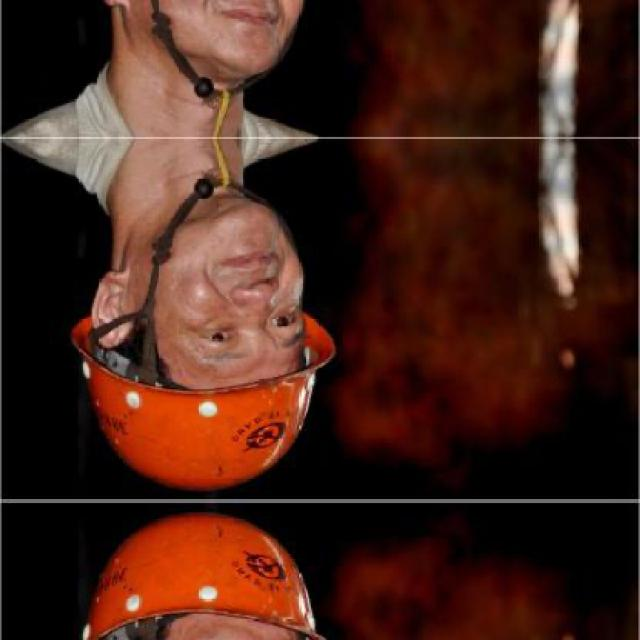con casco: (87, 282, 336, 488)
